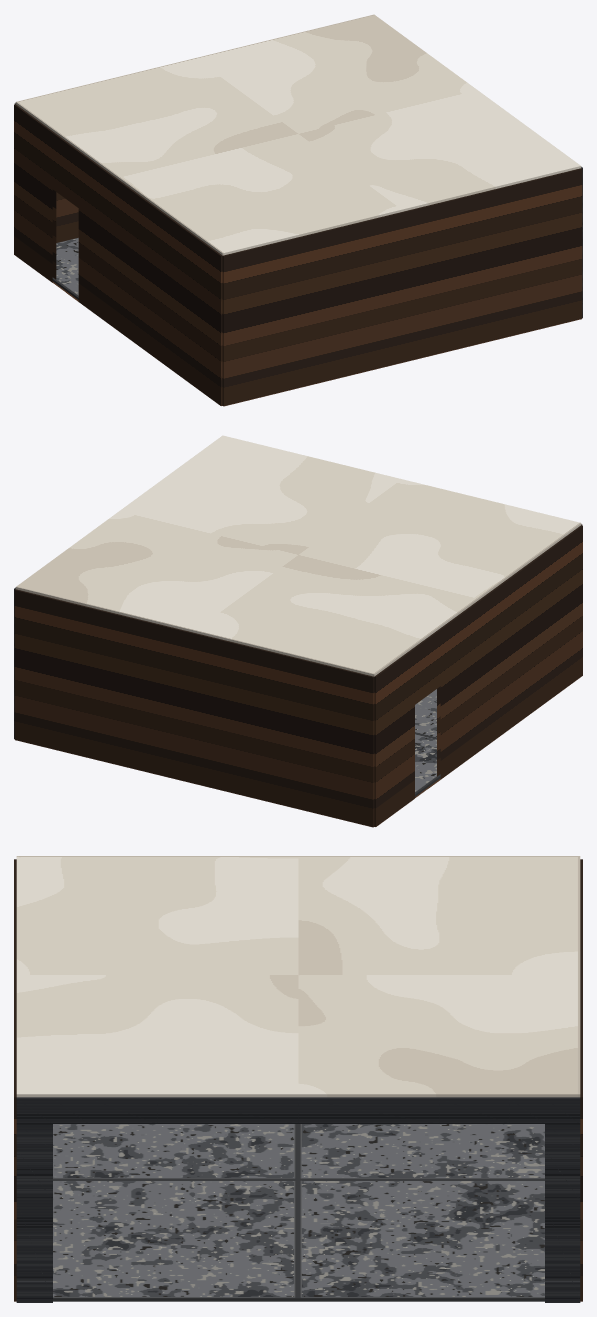
The model's file is Temp_Room.fbx.
The picture shows the model from 3 angles, top to bottom: view 1: azimuth 30°, elevation 25°; view 2: azimuth 150°, elevation 25°; view 3: azimuth 270°, elevation 25°; orthographic projection. The views are drawn at different scales.
Parts seen in each view (by area): view 1: Celling, Wall2, Wall1, Floor, Wall3; view 2: Celling, Wall3, Wall1, Floor; view 3: Celling, Floor, Wall4, Wall2, Wall3.
Boxes of the visible parts, bbox=[...] form: Celling: bbox=[15, 14, 581, 255]; Wall2: bbox=[222, 168, 582, 406]; Wall1: bbox=[14, 104, 222, 405]; Floor: bbox=[52, 237, 78, 299]; Wall3: bbox=[14, 103, 78, 242]; Celling: bbox=[15, 435, 581, 676]; Wall3: bbox=[14, 589, 374, 827]; Wall1: bbox=[374, 525, 582, 826]; Floor: bbox=[415, 689, 440, 796]; Celling: bbox=[16, 856, 580, 1097]; Floor: bbox=[53, 1124, 544, 1301]; Wall4: bbox=[16, 1097, 580, 1302]; Wall2: bbox=[14, 859, 16, 1301]; Wall3: bbox=[580, 859, 582, 1301].
Size of the model in its own units: 2020 by 812 by 2020.
